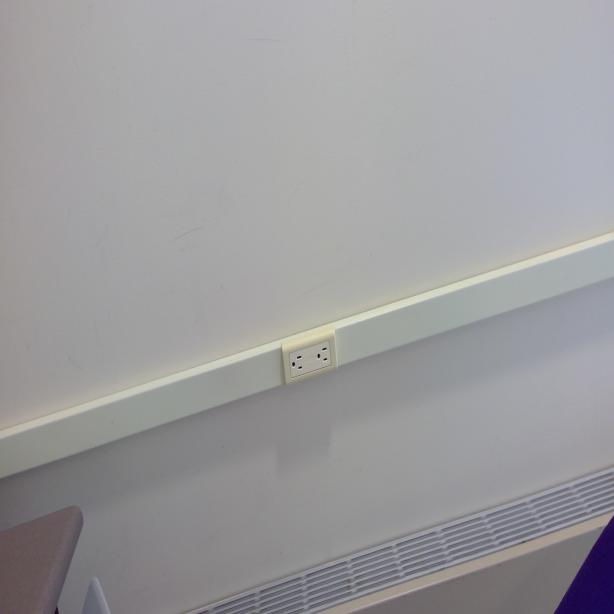typeb: (288, 349, 305, 377), (314, 343, 331, 370)
